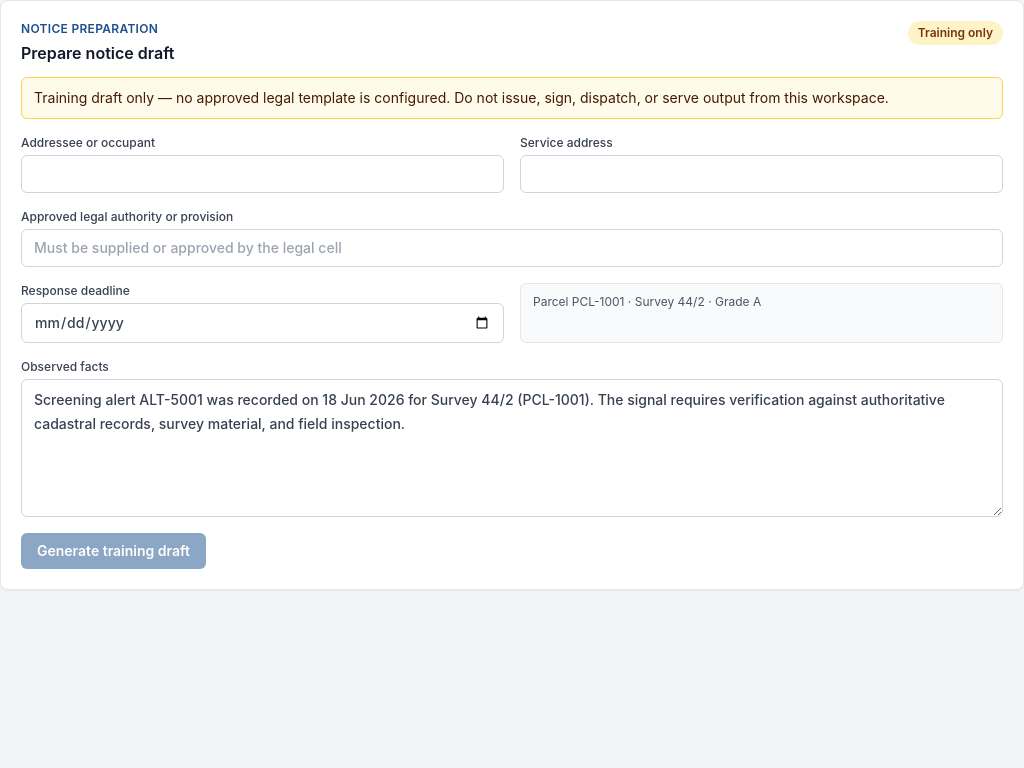
Test case: NoticeDraftWorkspace › requires an addressee, address, legal authority, and response deadline
Expected: the button "Generate training draft" is disabled, [21,533,206,569]
Type "Occupant at the recorded site" into the field labelled "Addressee or occupant" at (262, 174), box [21,155,504,193]
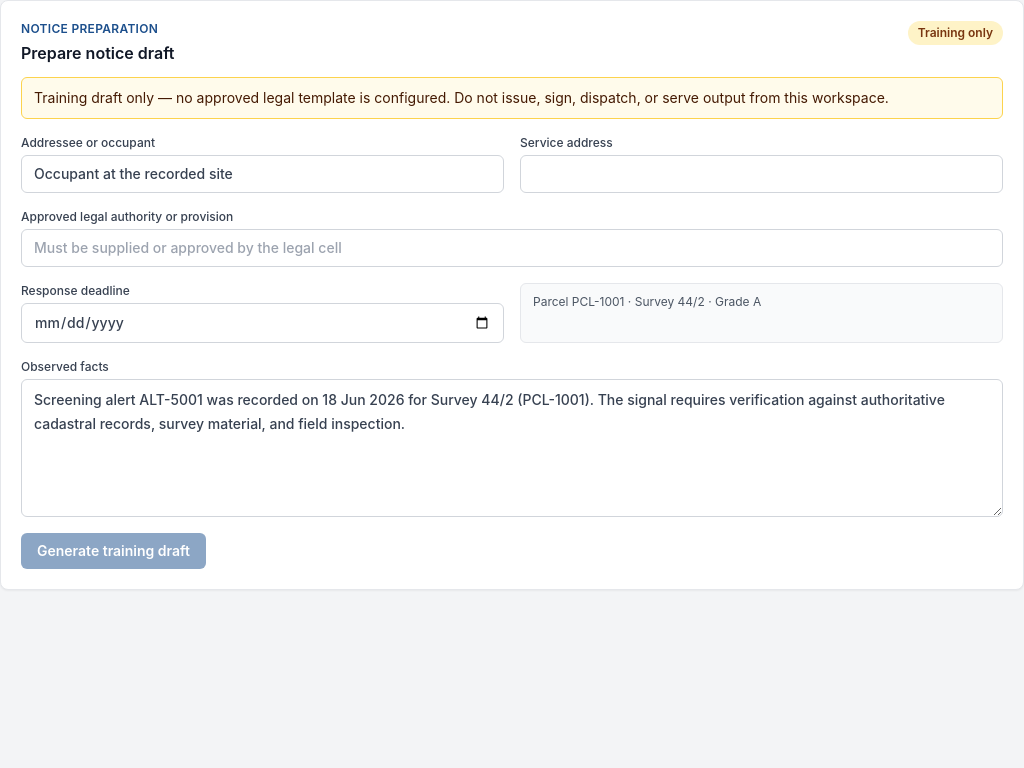
Type "Survey 44/2, Haridwar" into the field labelled "Service address" at (762, 174), box [520,155,1003,193]
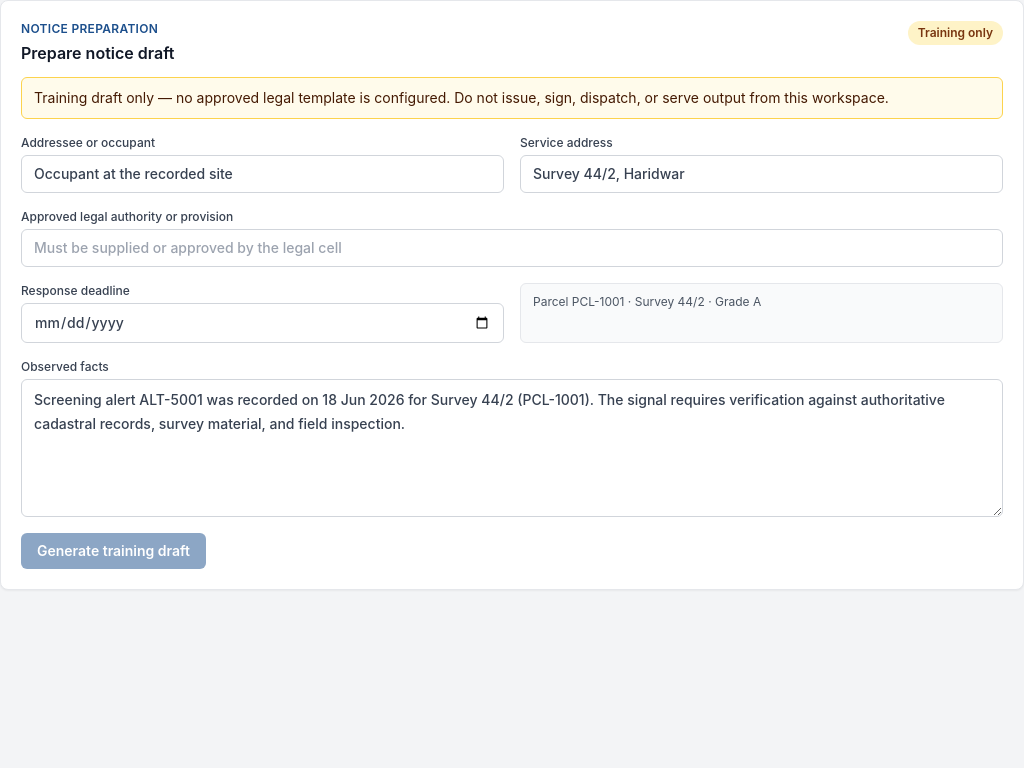
Type "Approved provision supplied by legal cell" into the field labelled "Approved legal authority or provision" at (512, 248), box [21,229,1003,267]
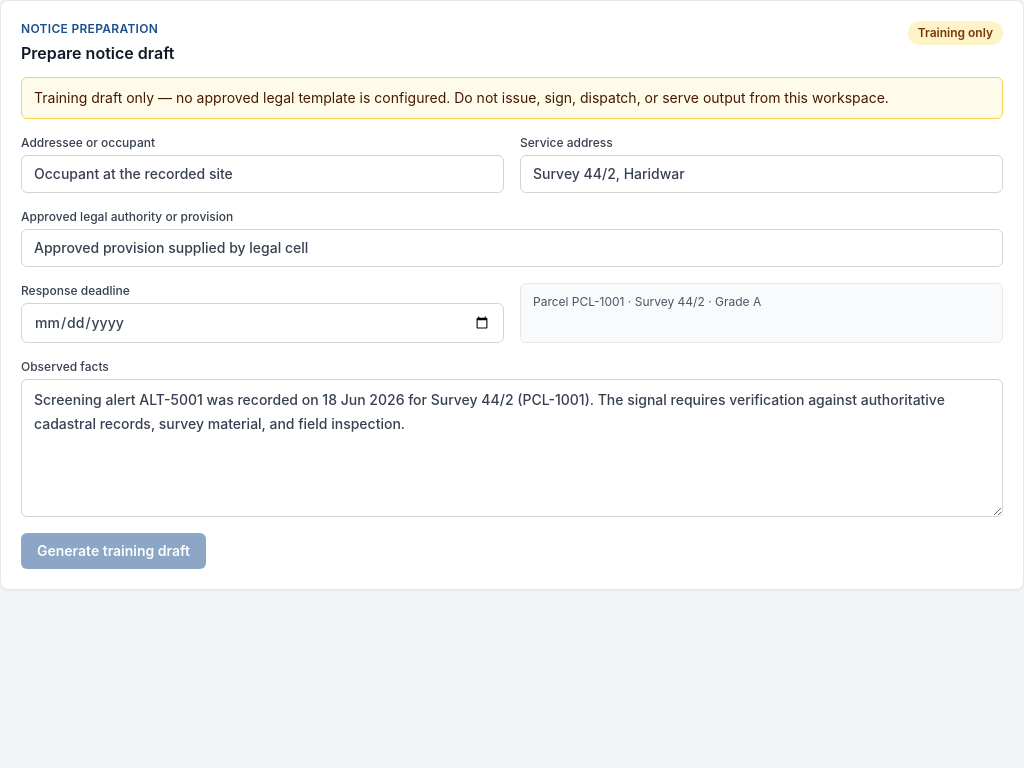
Type "2026-08-15" into the date field labelled "Response deadline" at (262, 323), box [21,303,504,343]
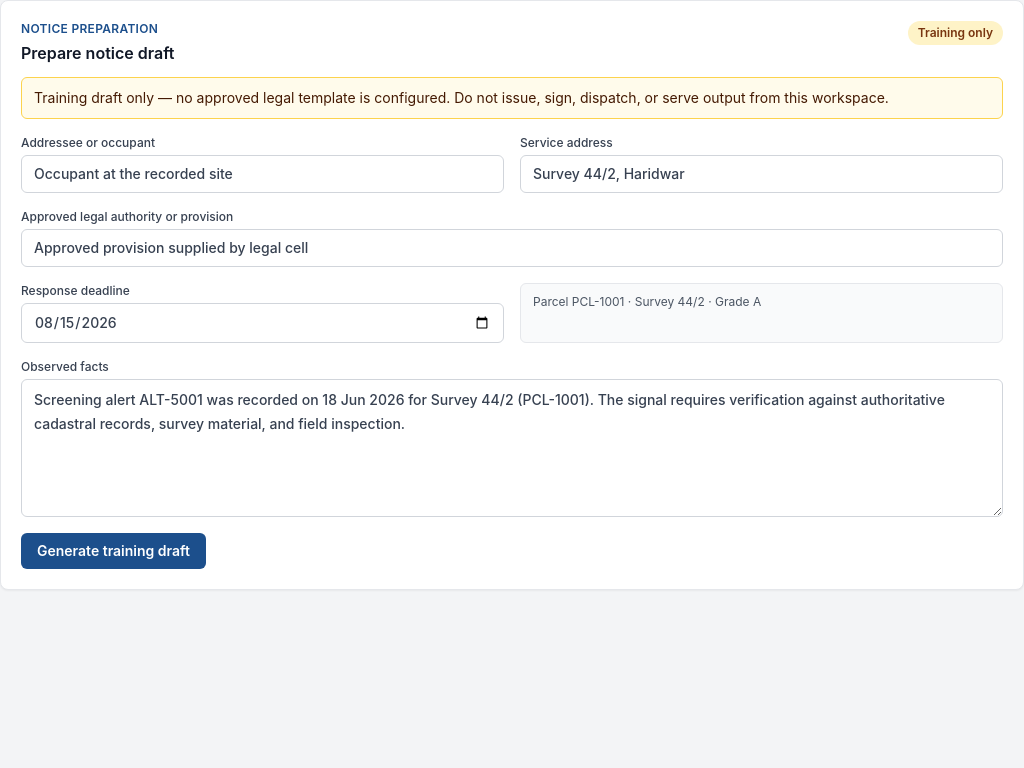
Expected: the button "Generate training draft" is enabled, [21,533,206,569]
